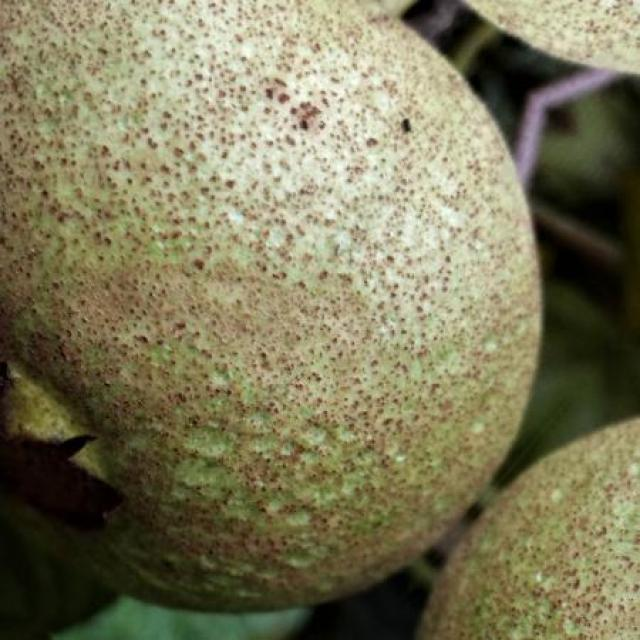Scab: (0, 1, 539, 601), (418, 418, 640, 640)
